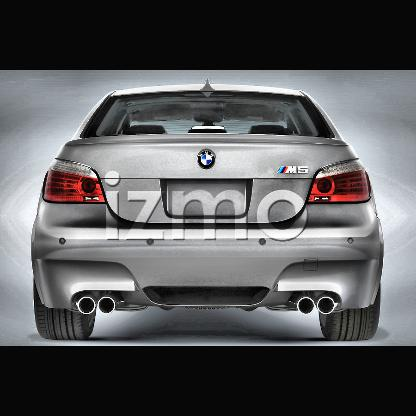BMW M5 Sedan 2010: (33, 84, 385, 339)
